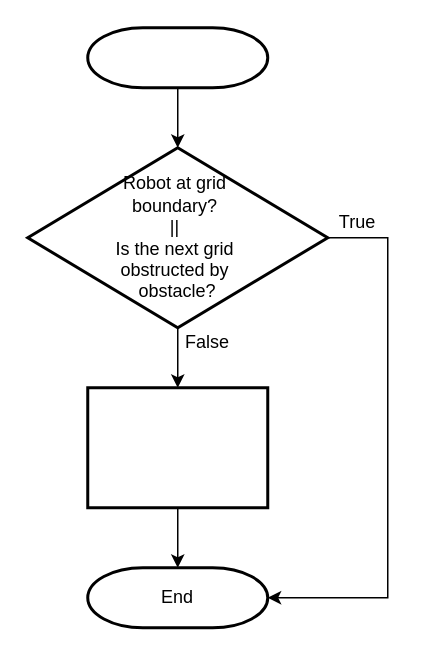
Some shapes in this 426 by 654 pixel diagram are drawn without their labels. Here are the shapes that lost their labels. From the top down, the centre of each, then its label:
At [177,57]: "Start".
At [177,447]: "Move robot in the given direction (update the world model)".
